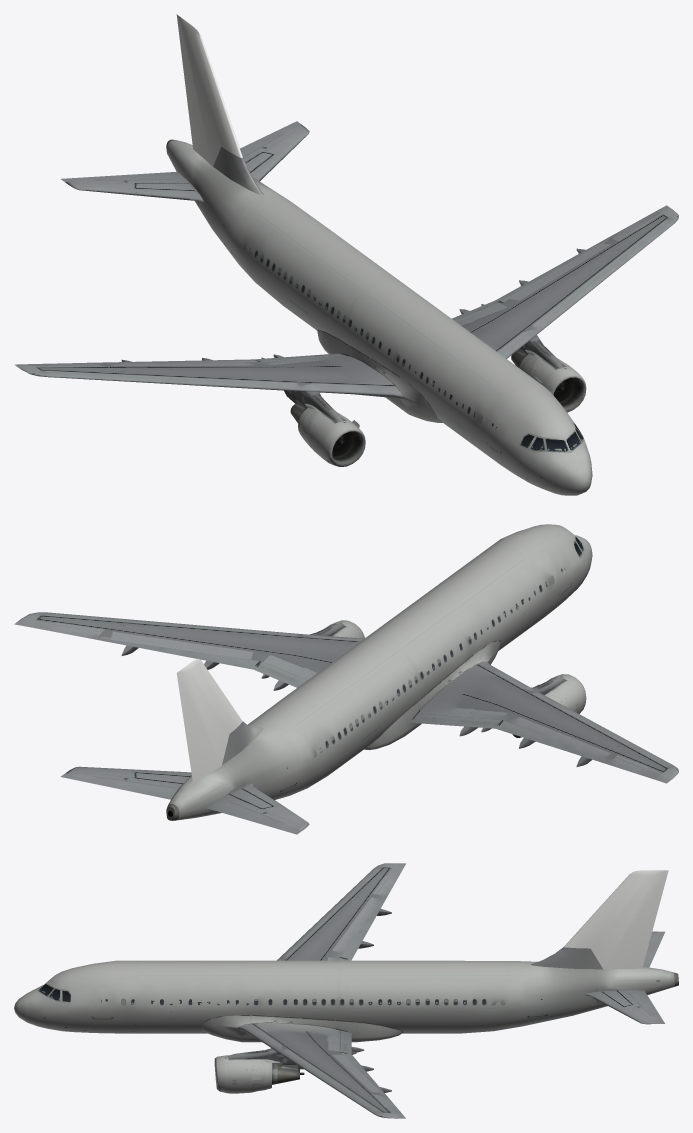
File: airliner_a320.glb
The picture shows the model from 3 angles, top to bottom: view 1: azimuth 30°, elevation 25°; view 2: azimuth 150°, elevation 25°; view 3: azimuth 270°, elevation 25°; orthographic projection. The views are drawn at different scales.
Parts seen in each view (by area): view 1: BODY; view 2: BODY; view 3: BODY.
Boxes of the visible parts, x1,y1,x2,y2 form: BODY: [14, 14, 678, 495]; BODY: [14, 524, 678, 834]; BODY: [14, 863, 678, 1118].
Bounding box in the file's own units: 34.15 × 11.16 × 37.6.
Materials: 3 (2 with a texture image).
